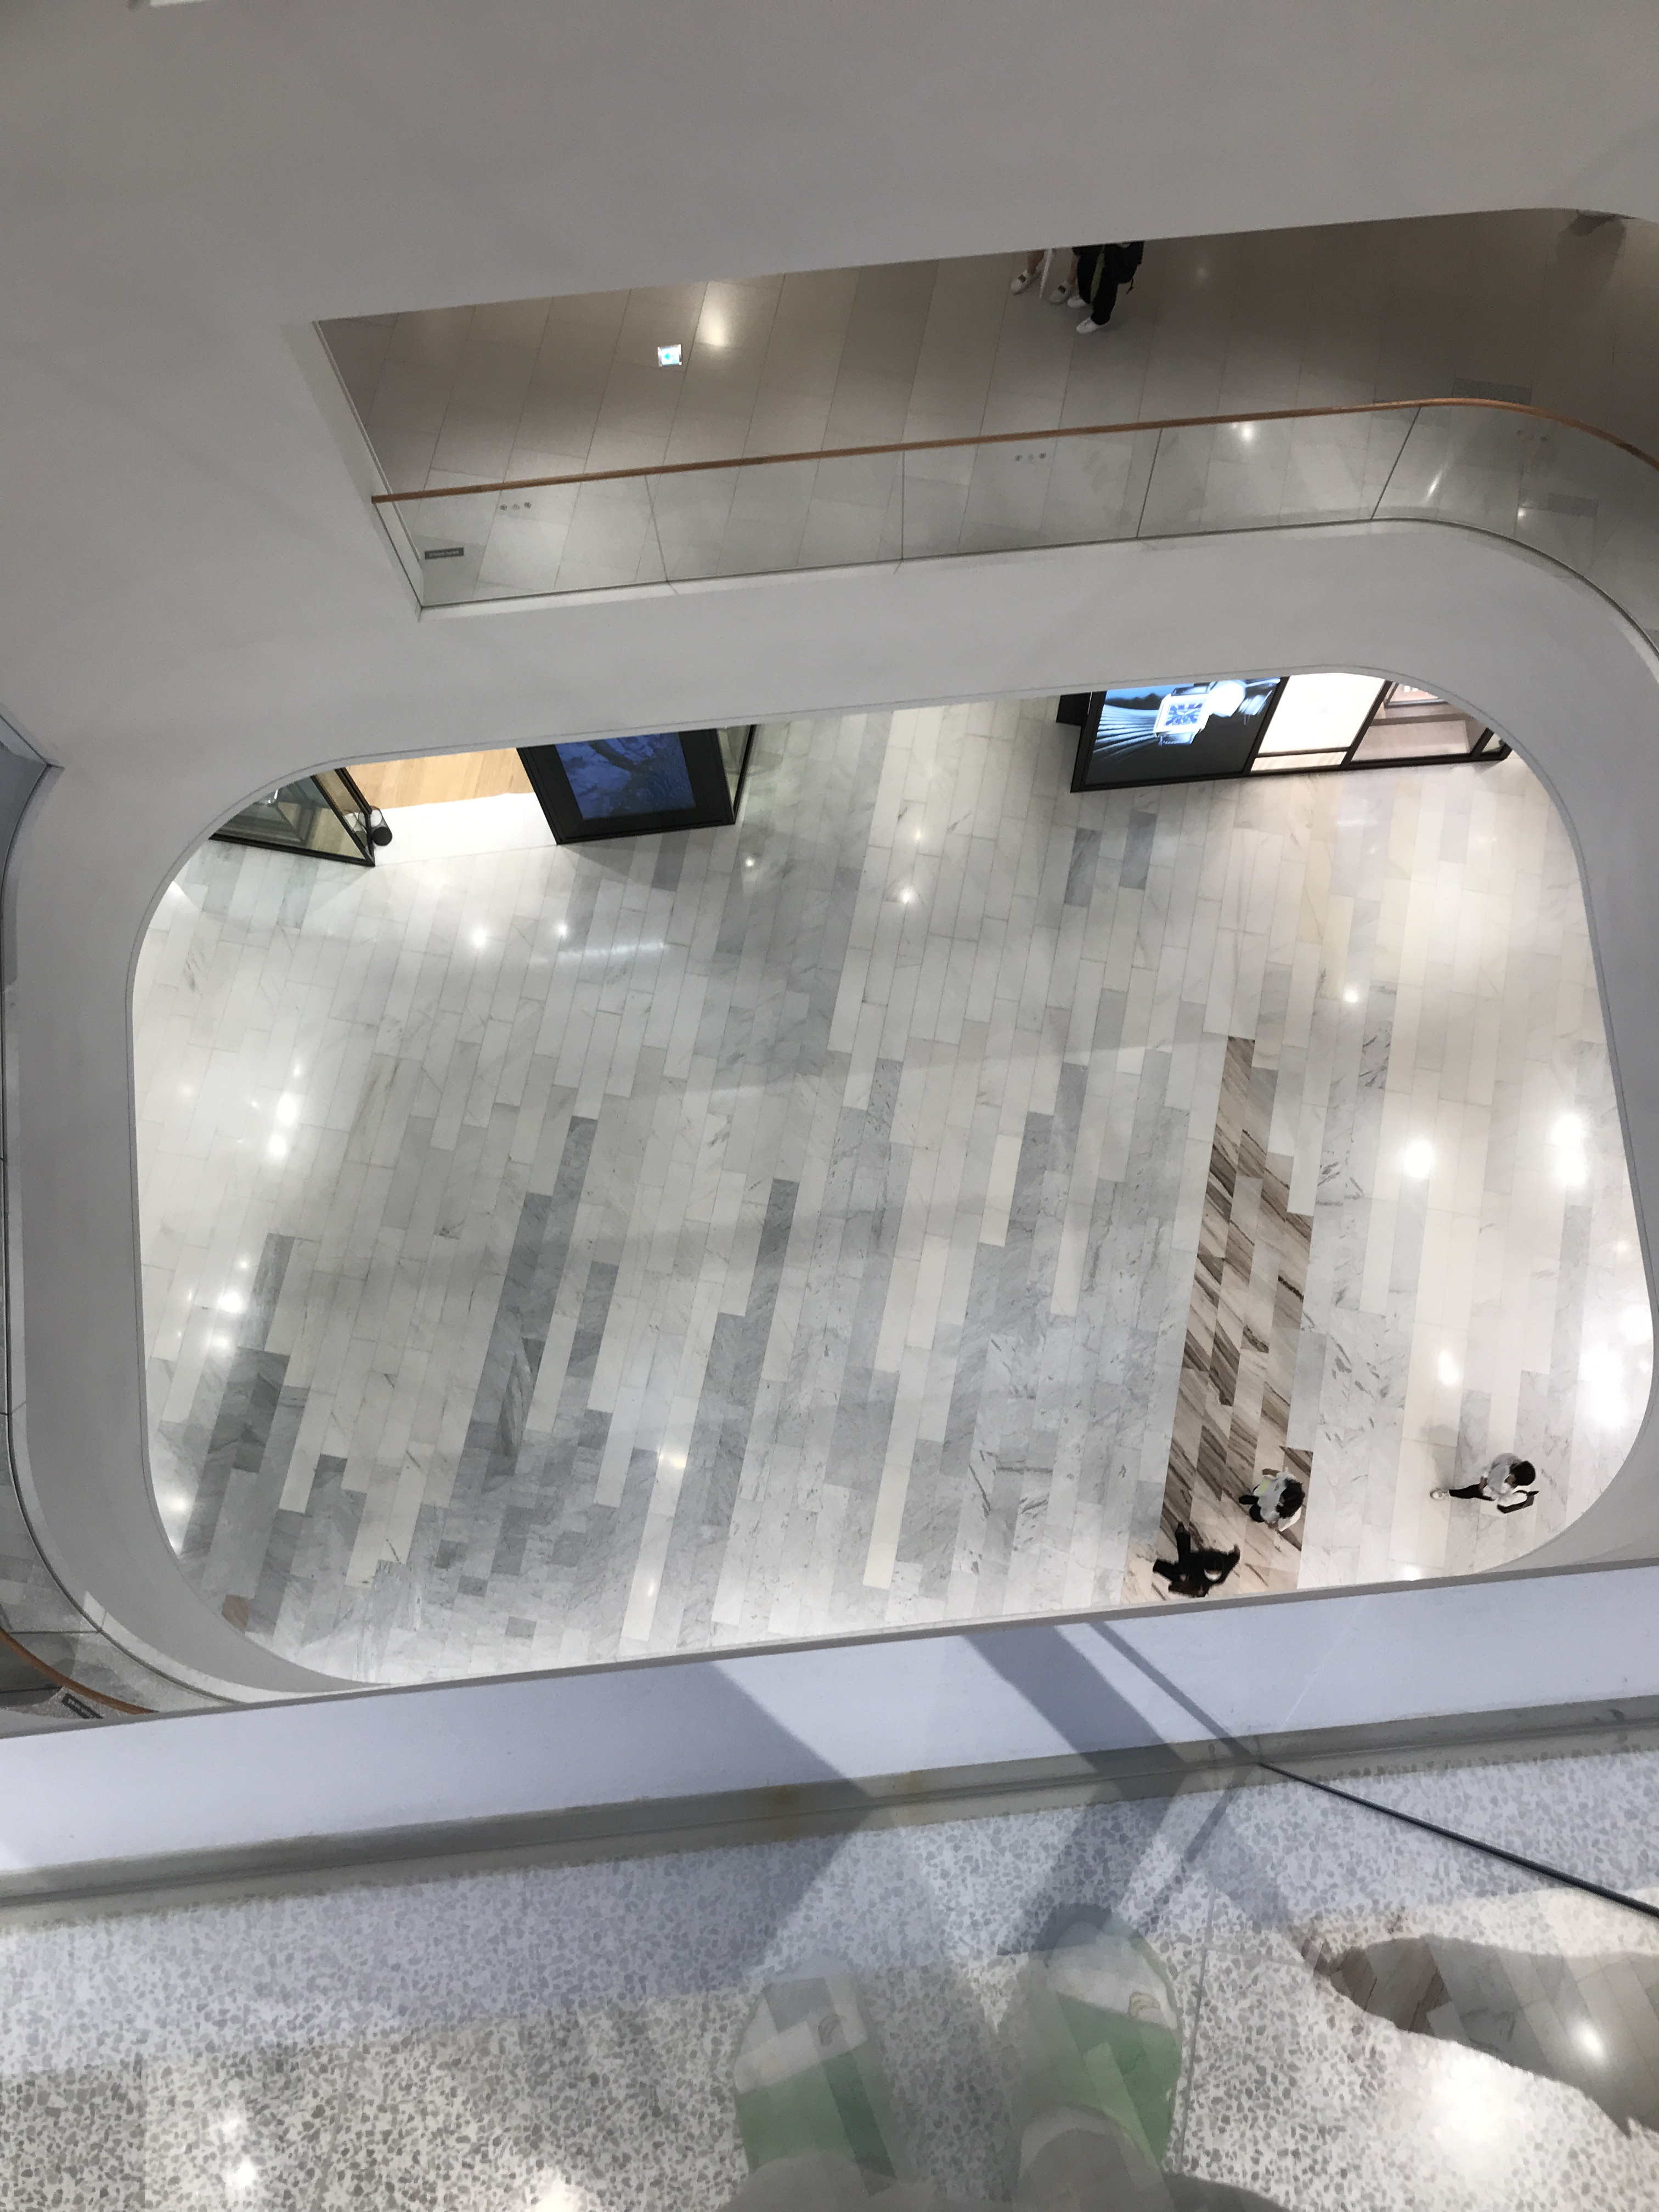person: (1429, 1452, 1542, 1518), (1143, 1524, 1240, 1600), (1070, 256, 1135, 342), (1232, 1466, 1307, 1531)
